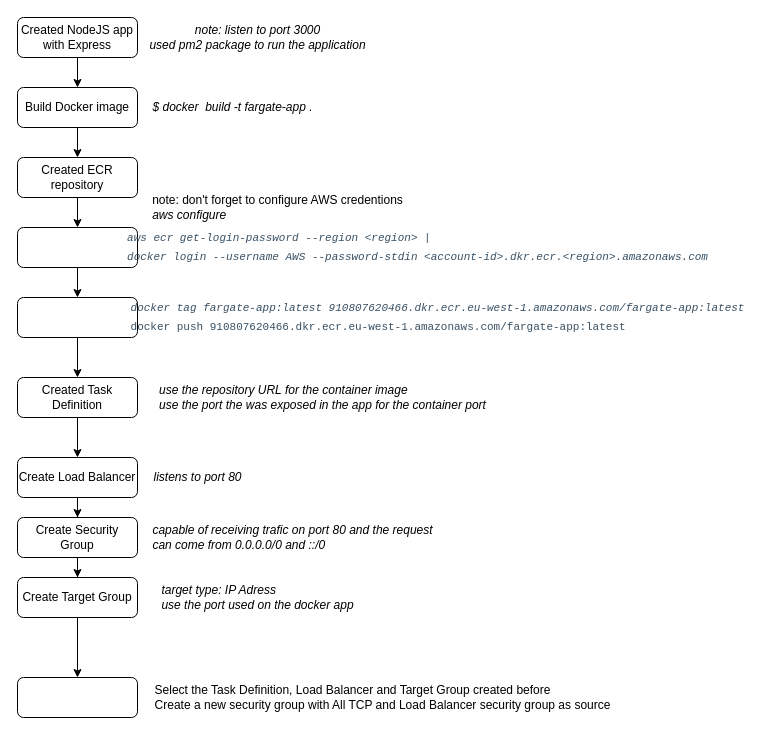
Some shapes in this 762 by 735 pixel diagram are drawn without their labels. The shapes that lost their labels are listed below. From the top down, each one's box as (x1, y1, x2, y2) in pixels, then its label:
(16, 226, 138, 268): Logged in
(16, 296, 138, 338): Tag and push image to the repository
(16, 676, 138, 718): Create Service
